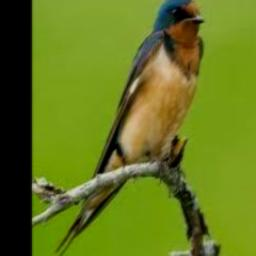Swallow: (53, 0, 204, 256)
